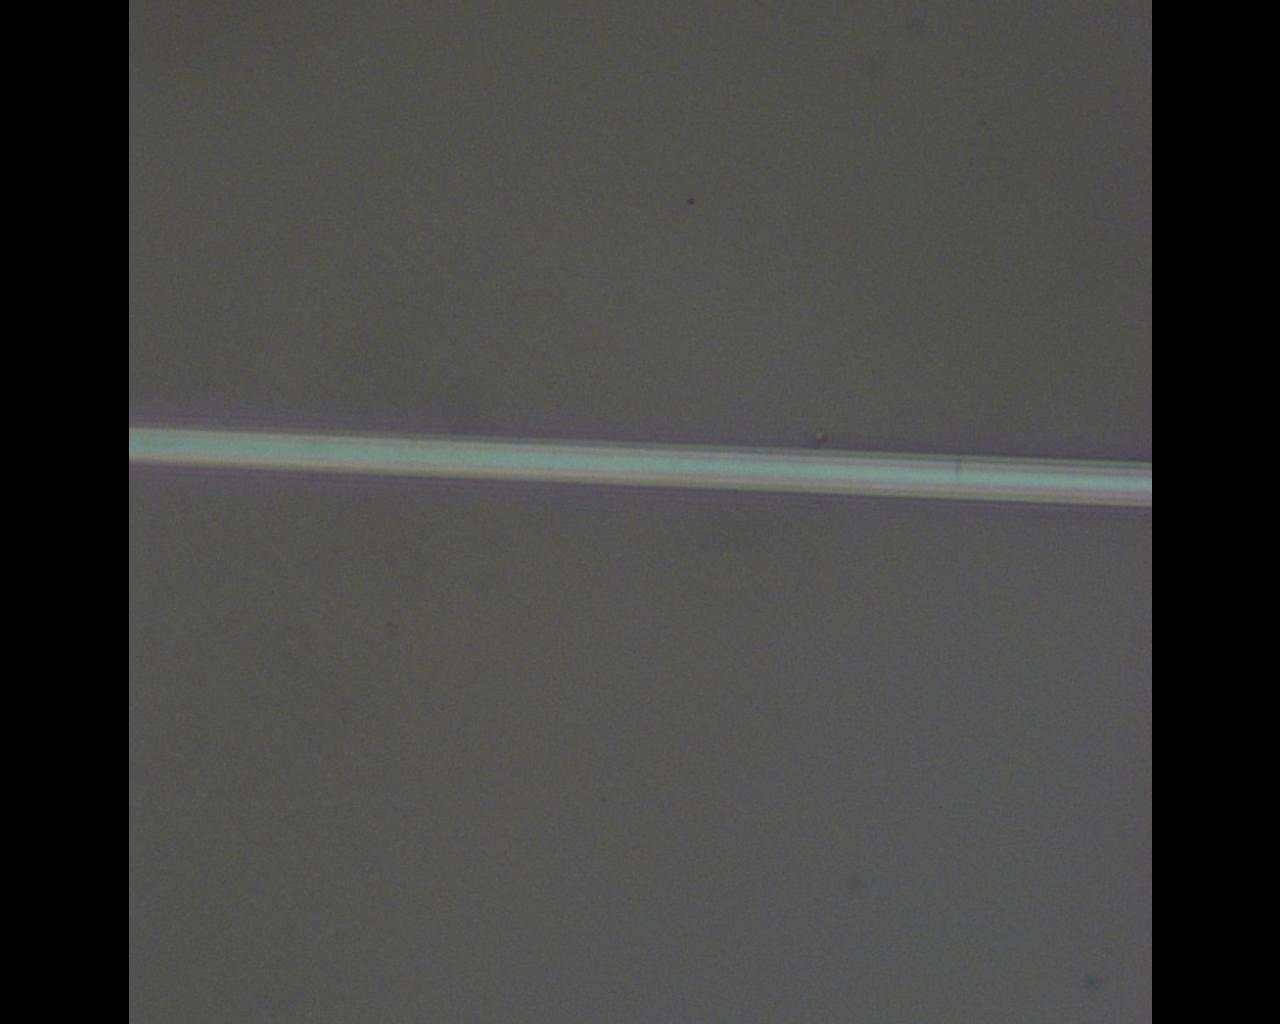fiber: (0, 66, 512, 563), (512, 0, 1280, 265), (583, 563, 983, 1024), (0, 837, 266, 1024)
